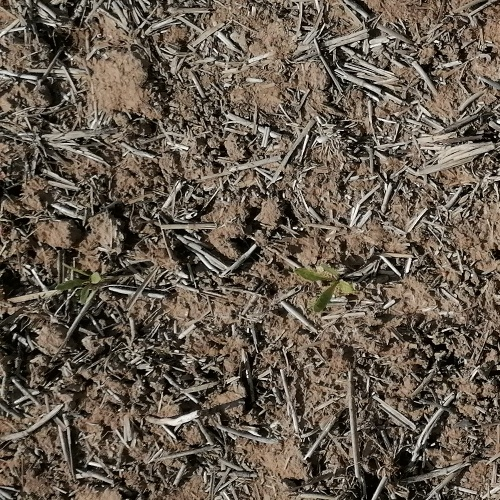beet: (295, 263, 355, 316), (56, 267, 104, 304)
